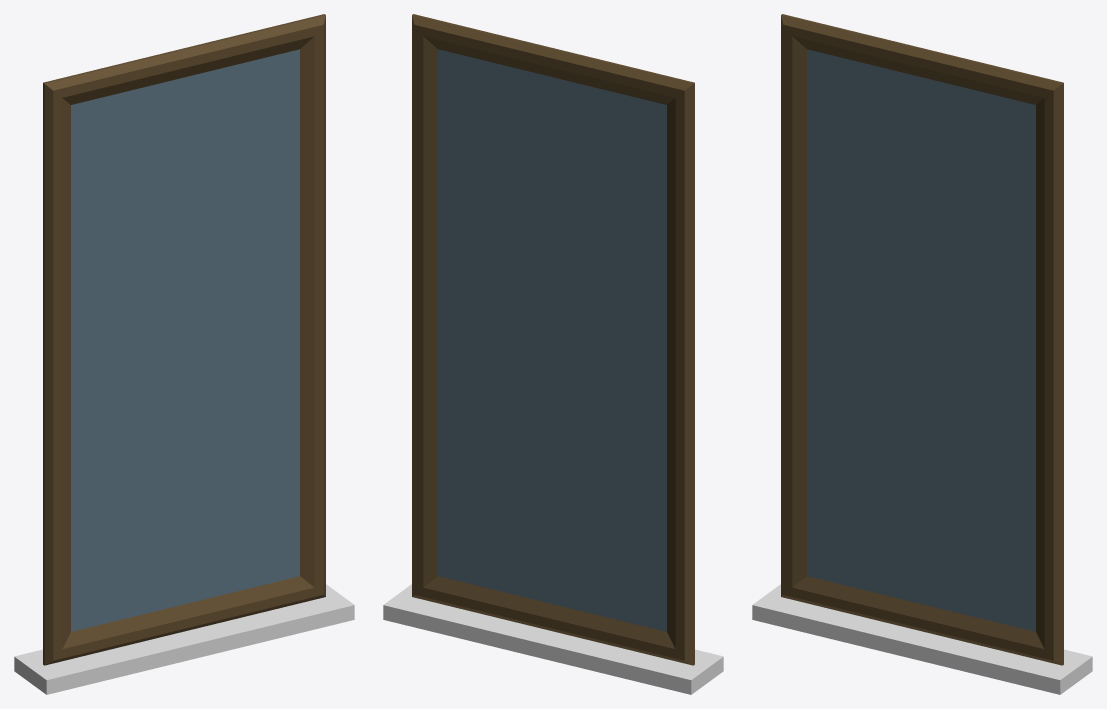
The model's file is Mirror.fbx.
The picture shows the model from 3 angles, left to right: view 1: azimuth 30°, elevation 25°; view 2: azimuth 150°, elevation 25°; view 3: azimuth 330°, elevation 25°; orthographic projection.
Visible parts, largest first — view 1: MIrror; view 2: MIrror; view 3: MIrror.
Boxes of the visible parts, x1,y1,x2,y2 form: MIrror: (14, 14, 354, 694); MIrror: (383, 14, 723, 694); MIrror: (752, 14, 1092, 694).
Size of the model in its own units: 219 by 405 by 40.
